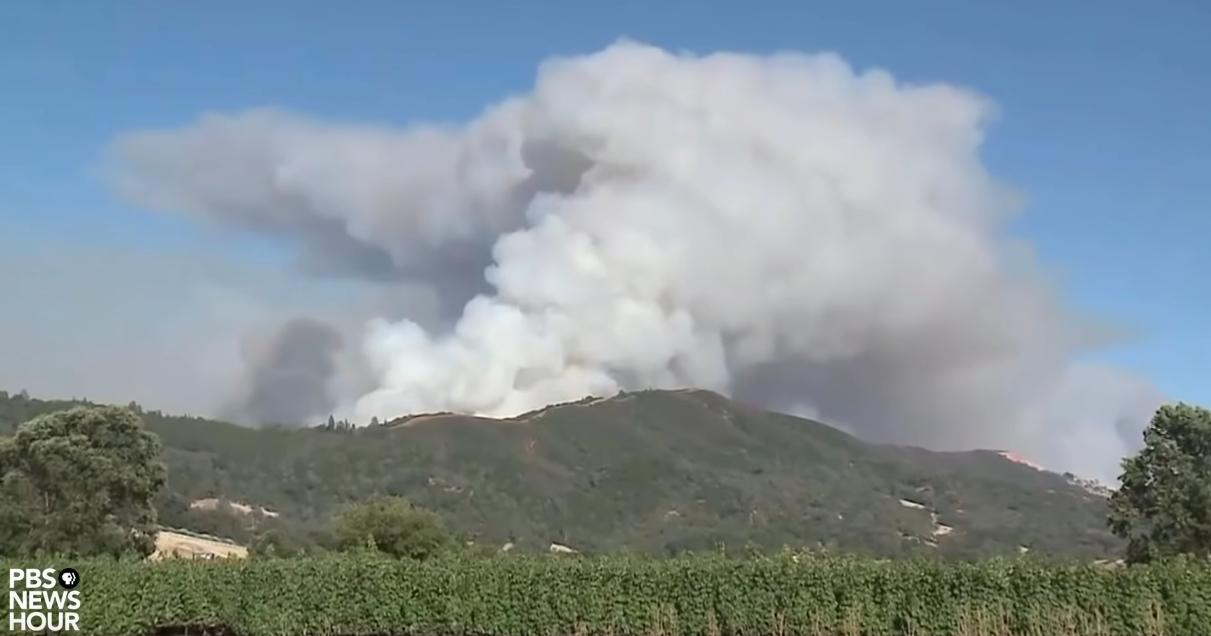smoke: (585, 93, 942, 317), (455, 328, 600, 390)
